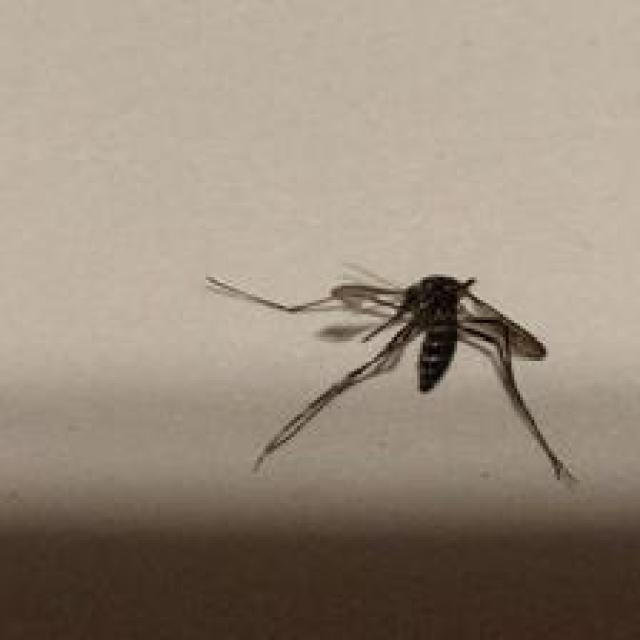Aedes albopictus: (204, 262, 582, 487)
